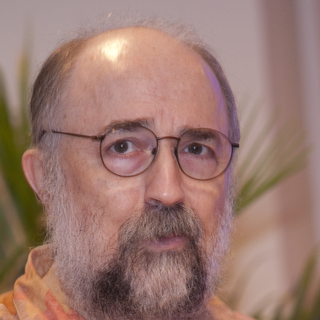eye: (176, 134, 222, 165), (101, 134, 148, 161)
